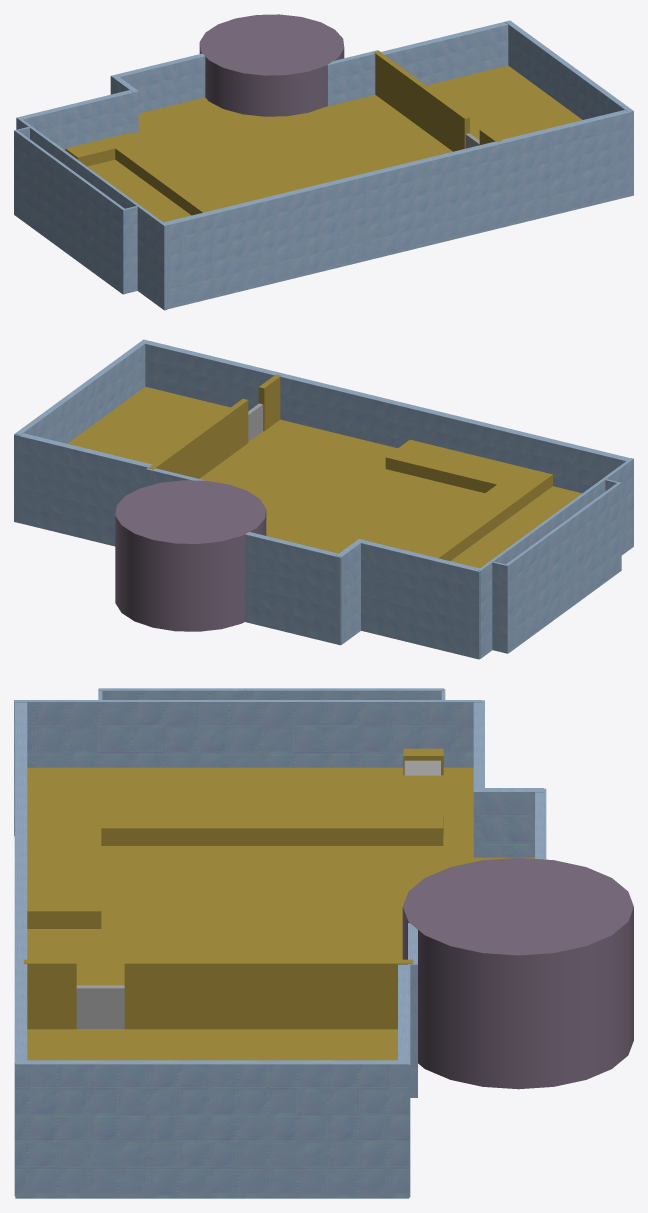
The model's file is tutorial_floor_2_tex.fbx.
3 renders of one model, top to bottom at view 1: azimuth 30°, elevation 25°; view 2: azimuth 150°, elevation 25°; view 3: azimuth 270°, elevation 25°, orthographic. The views are drawn at different scales.
Visible parts, largest first — view 1: pCube1, pasted__pasted__pCube5, pCylinder1, pasted__pasted__pasted__pasted__pCube2, pasted__pasted__pasted__pasted__pCube5, pCube5, pCube2, pasted__pCube1, pasted__pasted__pasted__pasted__pasted__pCube2, pasted__pasted__pCube2, pasted__pasted__pasted__pCube1, pasted__pCube4 (+5 smaller); view 2: pasted__pasted__pCube5, pCube1, pCylinder1, pasted__pasted__pasted__pCube1 (×2), pasted__pasted__pasted__pasted__pCube2, pasted__pCube1, pasted__pasted__pCube1, pCube5, pasted__pasted__pCube2 (×2), pCube2, pCube4, pasted__pasted__pasted__pasted__pasted__pCube2 (+5 smaller); view 3: pCube2, pCylinder1, pasted__pasted__pCube5, pasted__pasted__pasted__pasted__pasted__pCube2, pasted__pasted__pCube2 (×2), pasted__pCube4, pasted__pCube5, pCube5, pCube4, pasted__pasted__pasted__pasted__pCube5, pCube1, pasted__pasted__pasted__pasted__pCube2 (+8 smaller).
Boxes of the visible parts, bbox=[...] form: pCube1: bbox=[163, 110, 631, 309]; pasted__pasted__pCube5: bbox=[156, 95, 452, 205]; pCylinder1: bbox=[199, 14, 344, 116]; pasted__pasted__pasted__pasted__pCube2: bbox=[14, 130, 125, 294]; pasted__pasted__pasted__pasted__pCube5: bbox=[136, 97, 328, 161]; pCube5: bbox=[426, 65, 582, 140]; pCube2: bbox=[505, 20, 633, 195]; pasted__pCube1: bbox=[381, 22, 508, 85]; pasted__pasted__pasted__pasted__pasted__pCube2: bbox=[17, 117, 167, 310]; pasted__pasted__pCube2: bbox=[374, 51, 469, 151]; pasted__pasted__pasted__pCube1: bbox=[16, 90, 137, 149]; pasted__pCube4: bbox=[108, 132, 232, 215]; pasted__pasted__pCube5: bbox=[200, 419, 484, 553]; pCube1: bbox=[145, 341, 630, 493]; pCylinder1: bbox=[115, 480, 266, 631]; pasted__pasted__pasted__pCube1 (×2): bbox=[361, 540, 508, 659]; pasted__pasted__pasted__pasted__pCube2: bbox=[505, 482, 621, 653]; pasted__pCube1: bbox=[14, 433, 152, 546]; pasted__pasted__pCube1: bbox=[245, 532, 341, 645]; pCube5: bbox=[67, 386, 230, 464]; pasted__pasted__pCube2 (×2): bbox=[148, 398, 364, 644]; pCube2: bbox=[14, 339, 148, 443]; pCube4: bbox=[385, 439, 552, 503]; pasted__pasted__pasted__pasted__pasted__pCube2: bbox=[477, 458, 633, 658]; pCube2: bbox=[15, 1060, 408, 1198]; pCylinder1: bbox=[402, 857, 633, 1089]; pasted__pasted__pCube5: bbox=[27, 846, 408, 985]; pasted__pasted__pasted__pasted__pasted__pCube2: bbox=[14, 700, 481, 836]; pasted__pasted__pCube2 (×2): bbox=[124, 788, 543, 1029]; pasted__pCube4: bbox=[29, 805, 443, 845]; pasted__pCube5: bbox=[27, 767, 404, 804]; pCube5: bbox=[27, 1029, 397, 1060]; pCube4: bbox=[27, 805, 101, 928]; pasted__pasted__pasted__pasted__pCube5: bbox=[349, 855, 534, 959]; pCube1: bbox=[14, 702, 27, 1195]; pasted__pasted__pasted__pasted__pCube2: bbox=[98, 688, 443, 699].
Bounding box in the file's own units: 18.1 × 3.01 × 12.62.
